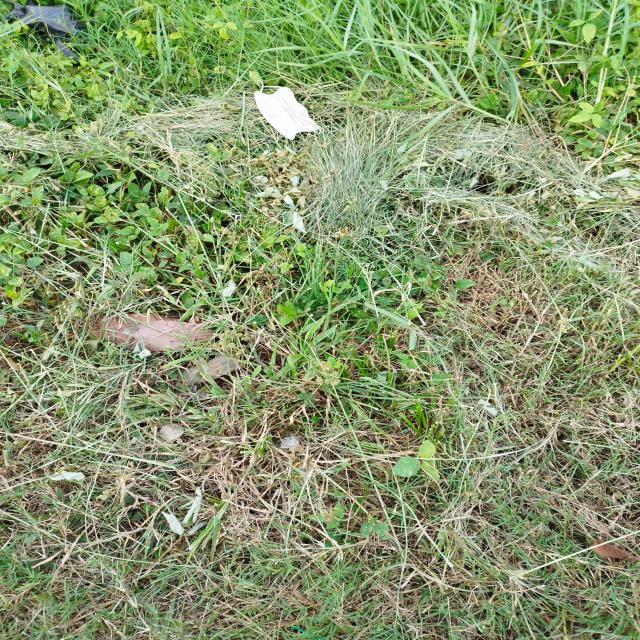mask: (253, 80, 320, 141)
